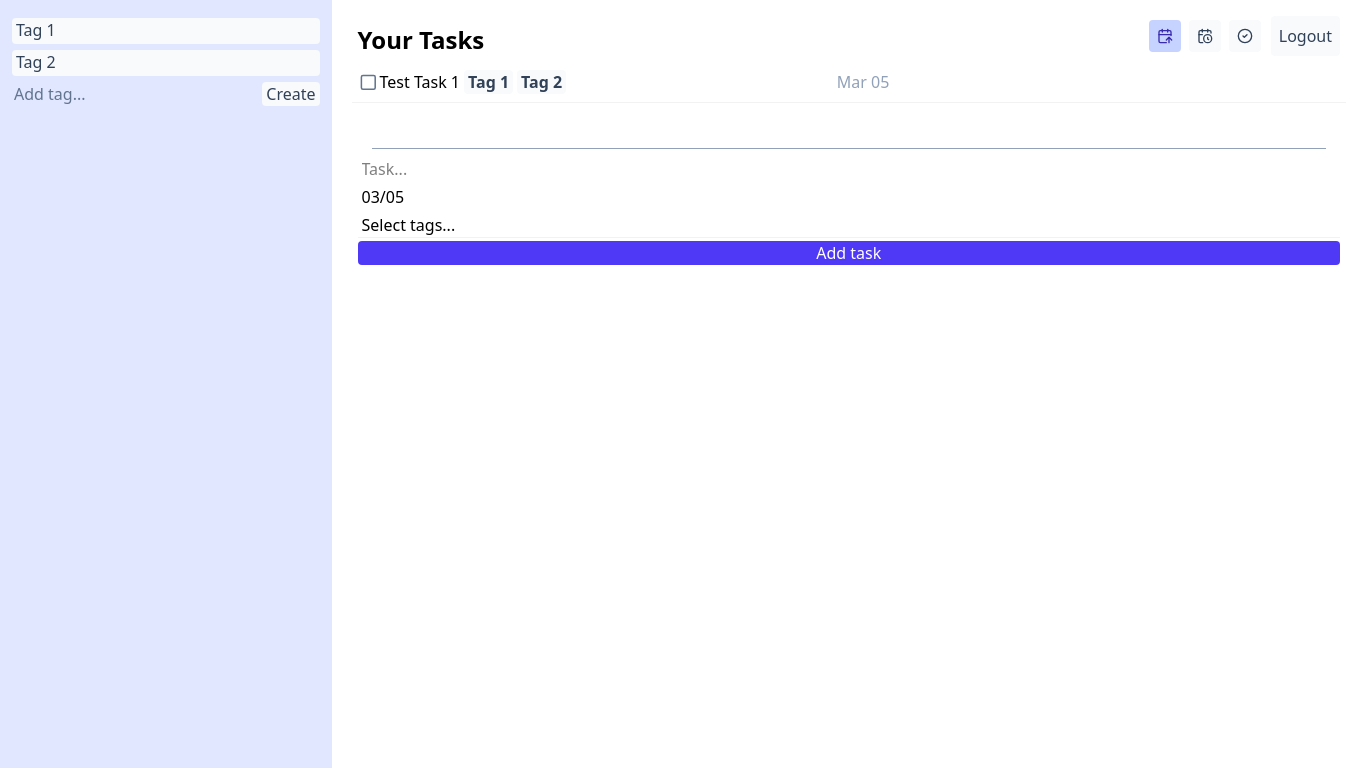
Test: Task integration tests › Create a task
# create a new task
Type "New Task" into the field with placeholder "Task...".
click(849, 169); type("New Task")  # box top-left (358, 157), bottom-right (1340, 181)
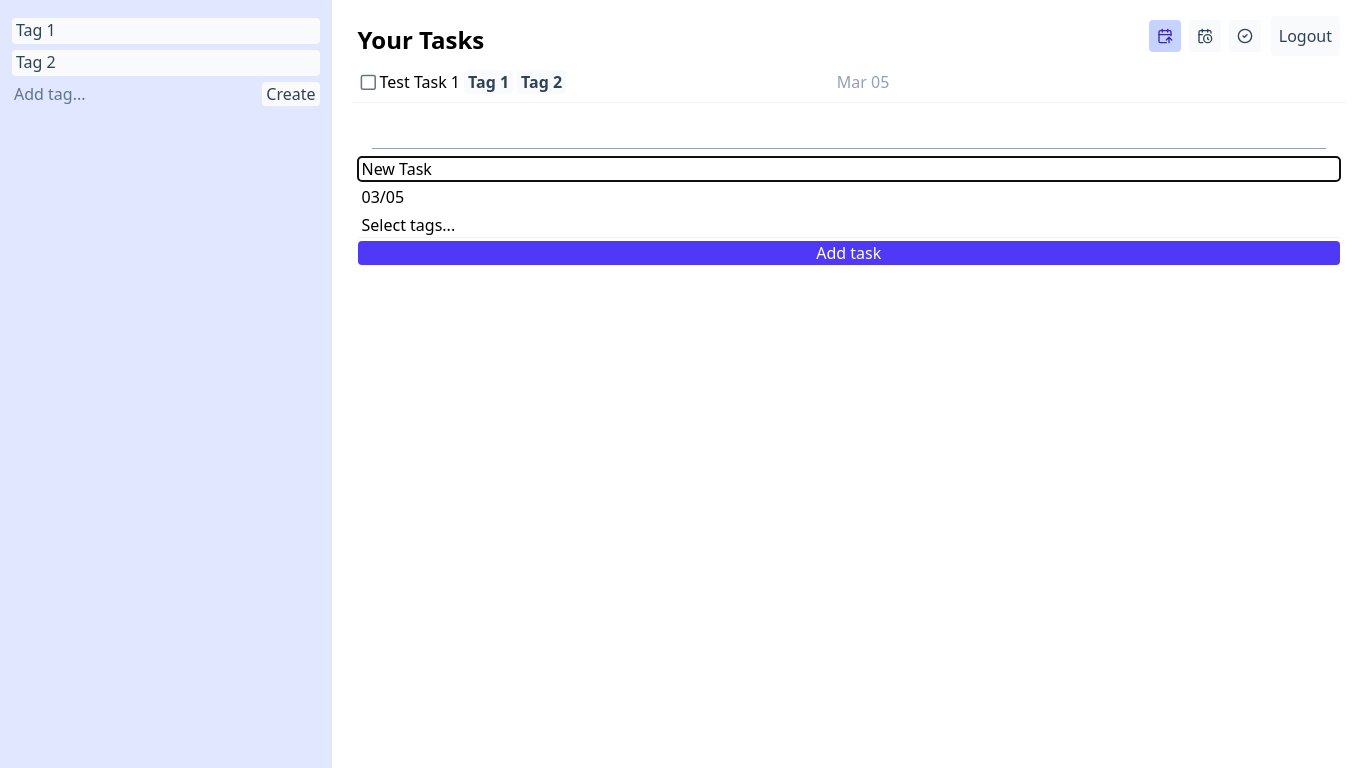
Click the button "Add task".
click(849, 253)  # box top-left (358, 241), bottom-right (1340, 265)
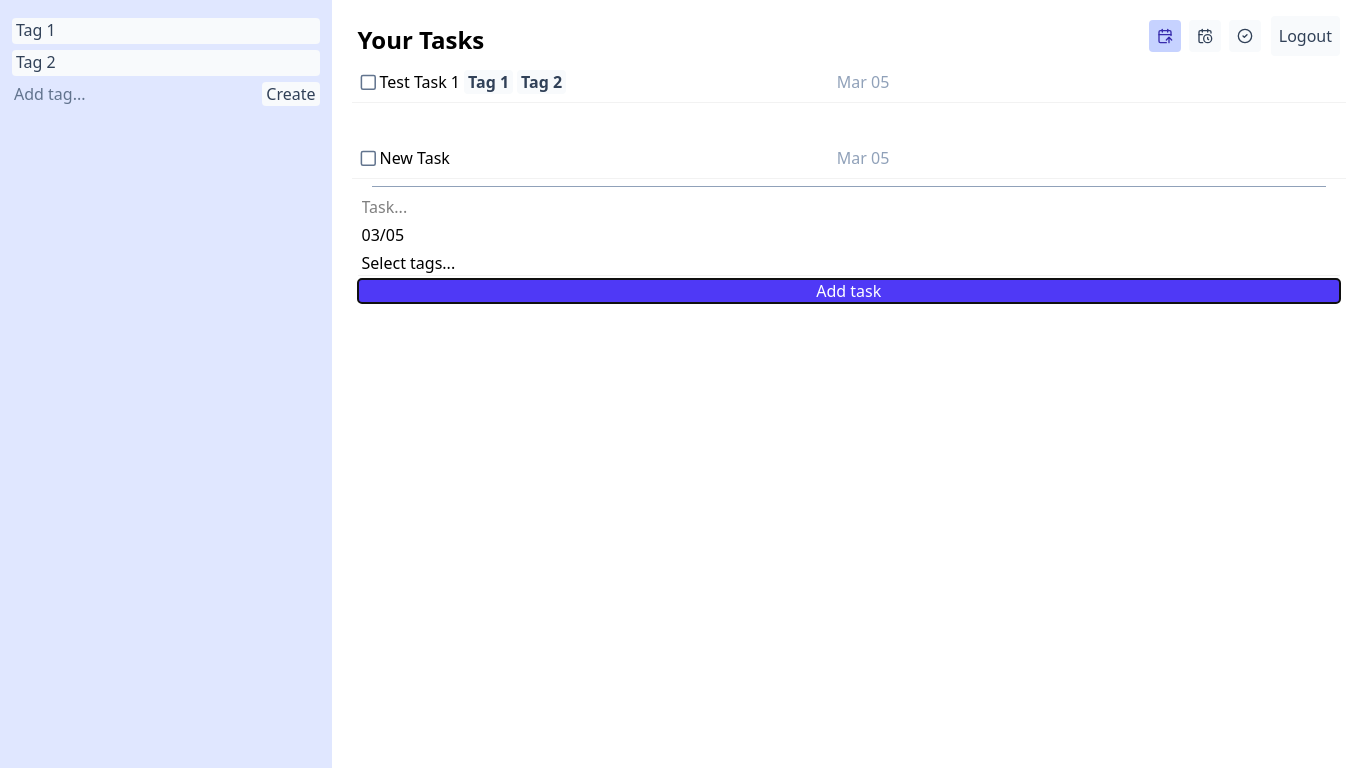
expect the text "New Task" is shown: met, box top-left (380, 146), bottom-right (450, 172)
